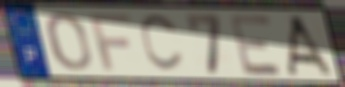7: (183, 12, 225, 77)
A: (285, 14, 336, 79)
C: (138, 13, 186, 74)
E: (227, 13, 286, 77)
F: (87, 13, 134, 73)
O: (44, 11, 94, 72)
